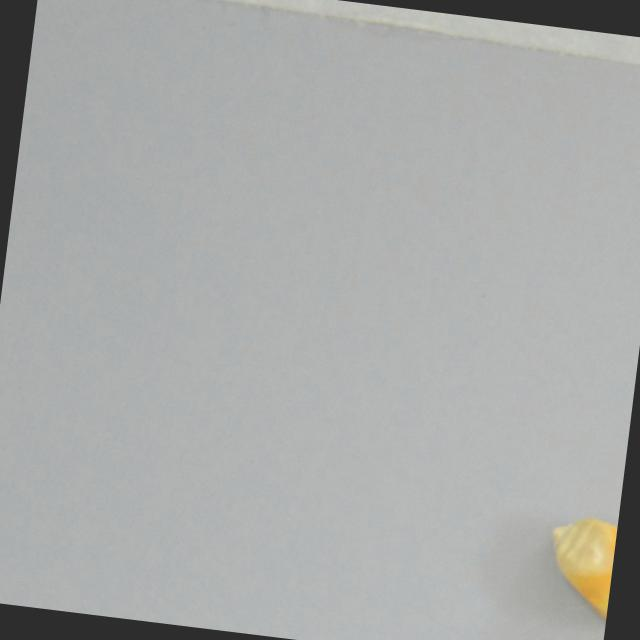entero: (529, 501, 619, 634)
